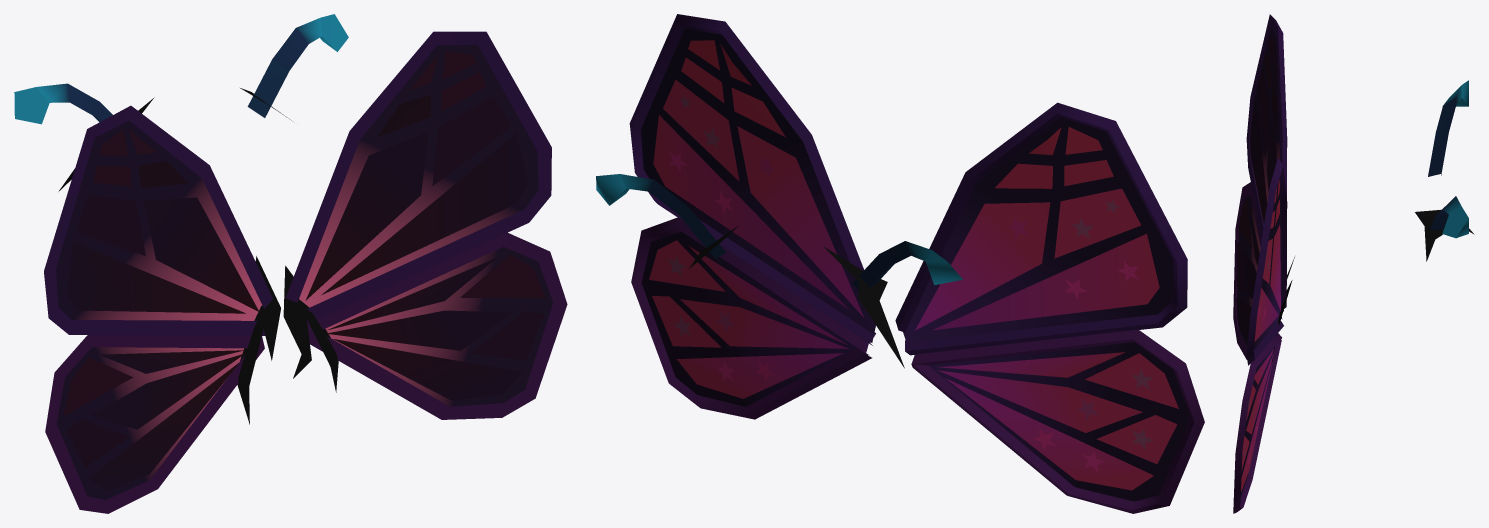
The model's file is hat_premiumButterfly.glb.
The picture shows the model from 3 angles, left to right: view 1: azimuth 30°, elevation 25°; view 2: azimuth 150°, elevation 25°; view 3: azimuth 270°, elevation 25°; orthographic projection. The views are drawn at different scales.
Parts seen in each view (by area): view 1: hat_premiumButterfly; view 2: hat_premiumButterfly; view 3: hat_premiumButterfly.
Part boxes in pixels (left/top/right/bottom): hat_premiumButterfly: left=14, top=14, right=567, bottom=513; hat_premiumButterfly: left=596, top=14, right=1204, bottom=513; hat_premiumButterfly: left=1233, top=14, right=1474, bottom=513.
Size of the model in its own units: 0.7565 by 0.5264 by 0.3437.
